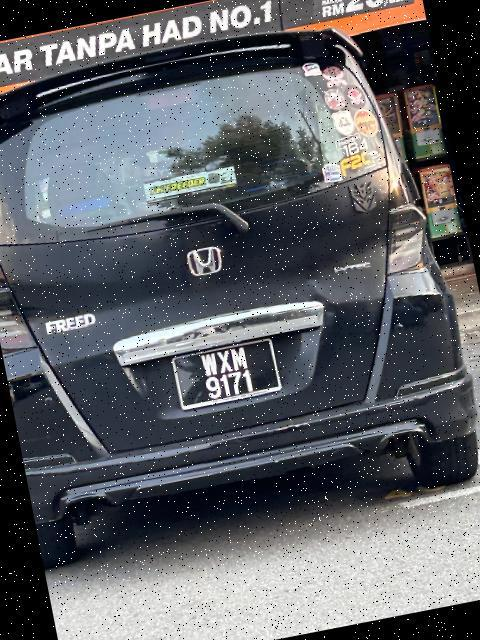License_Plate: (170, 336, 283, 414)
WXM9171: (170, 336, 283, 414)
car: (1, 1, 480, 573)
